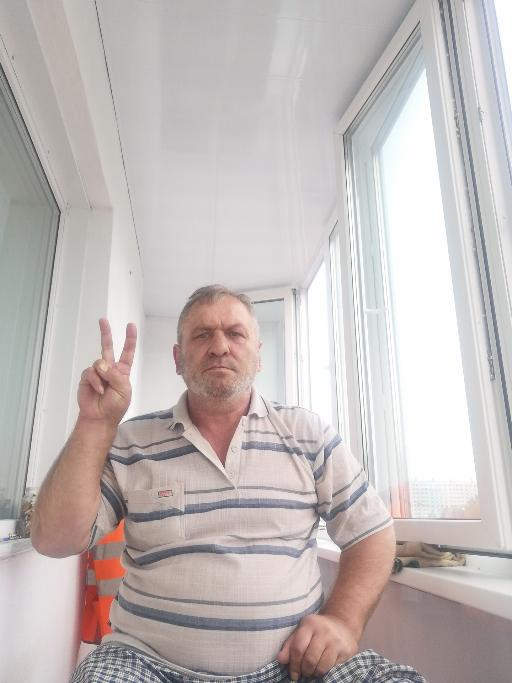no_gesture: (275, 612, 359, 679)
peace: (76, 317, 138, 423)
